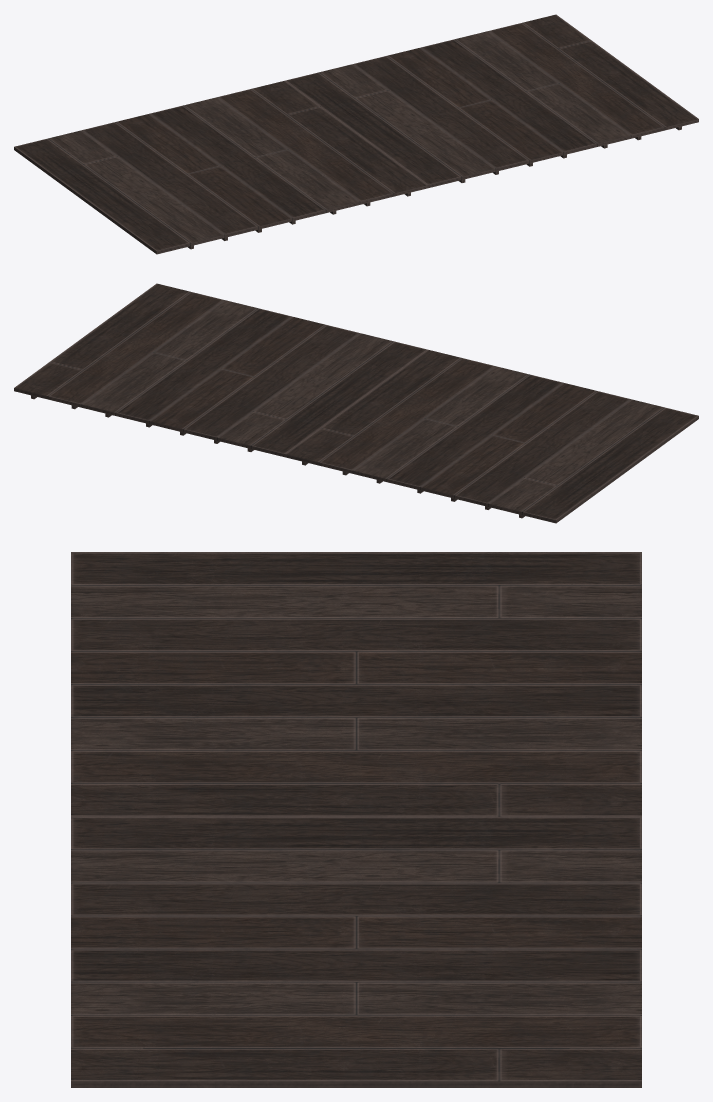
The model's file is 1-1_Floor_up.fbx.
3 renders of one model, top to bottom at view 1: azimuth 30°, elevation 25°; view 2: azimuth 150°, elevation 25°; view 3: azimuth 270°, elevation 25°, orthographic. The views are drawn at different scales.
Parts seen in each view (by area): view 1: _Combined Mesh [GROUP ceiling (5)]; view 2: _Combined Mesh [GROUP ceiling (5)]; view 3: _Combined Mesh [GROUP ceiling (5)].
Part boxes in pixels (x1,y1,x2,y2): _Combined Mesh [GROUP ceiling (5)]: (14, 14, 698, 254); _Combined Mesh [GROUP ceiling (5)]: (14, 283, 698, 523); _Combined Mesh [GROUP ceiling (5)]: (71, 552, 641, 1087).
Bounding box in the file's own units: 2.63 × 0.03 × 1.2.
